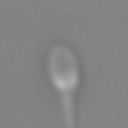normal: (51, 92, 91, 128)
